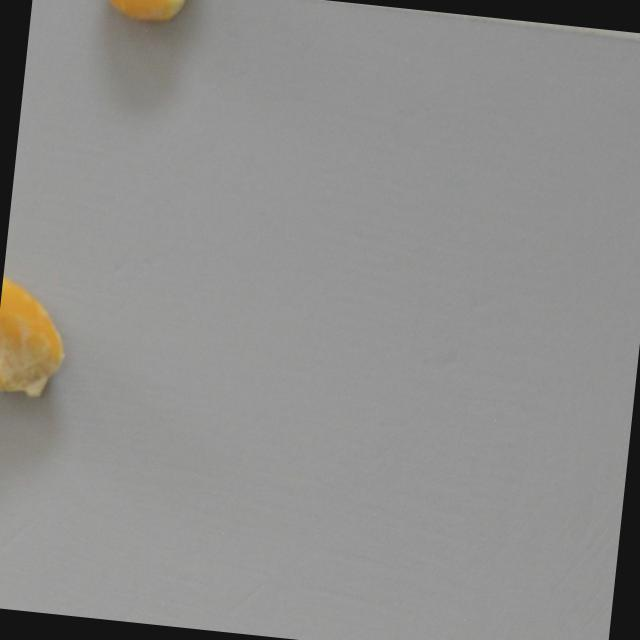dañado: (0, 269, 84, 408)
